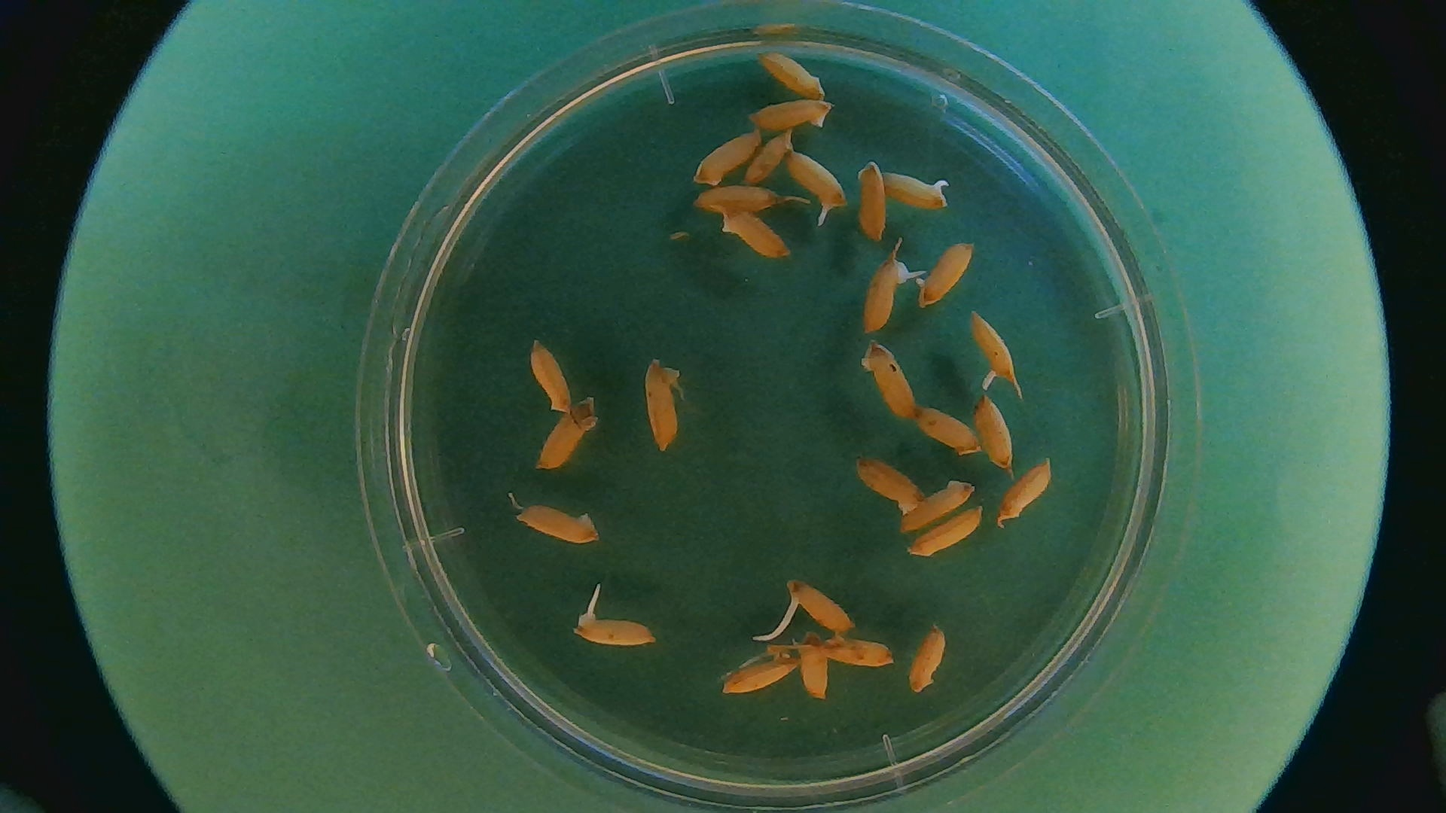no: (855, 340, 918, 421), (993, 455, 1054, 536), (849, 452, 927, 513), (897, 478, 976, 534), (915, 242, 979, 311), (712, 204, 792, 257), (751, 47, 828, 102), (534, 402, 596, 469), (907, 503, 981, 558), (696, 181, 812, 216), (692, 127, 759, 187), (644, 362, 688, 451), (749, 92, 835, 136), (972, 393, 1014, 483), (716, 651, 799, 695), (826, 626, 895, 677), (915, 403, 981, 456), (520, 505, 606, 545), (529, 341, 574, 416), (747, 129, 798, 189), (903, 626, 944, 698), (856, 158, 889, 240), (796, 630, 831, 703)
yes: (786, 579, 859, 641), (862, 255, 907, 337), (785, 151, 845, 209), (971, 314, 1017, 385), (575, 613, 651, 653), (879, 172, 950, 213)
